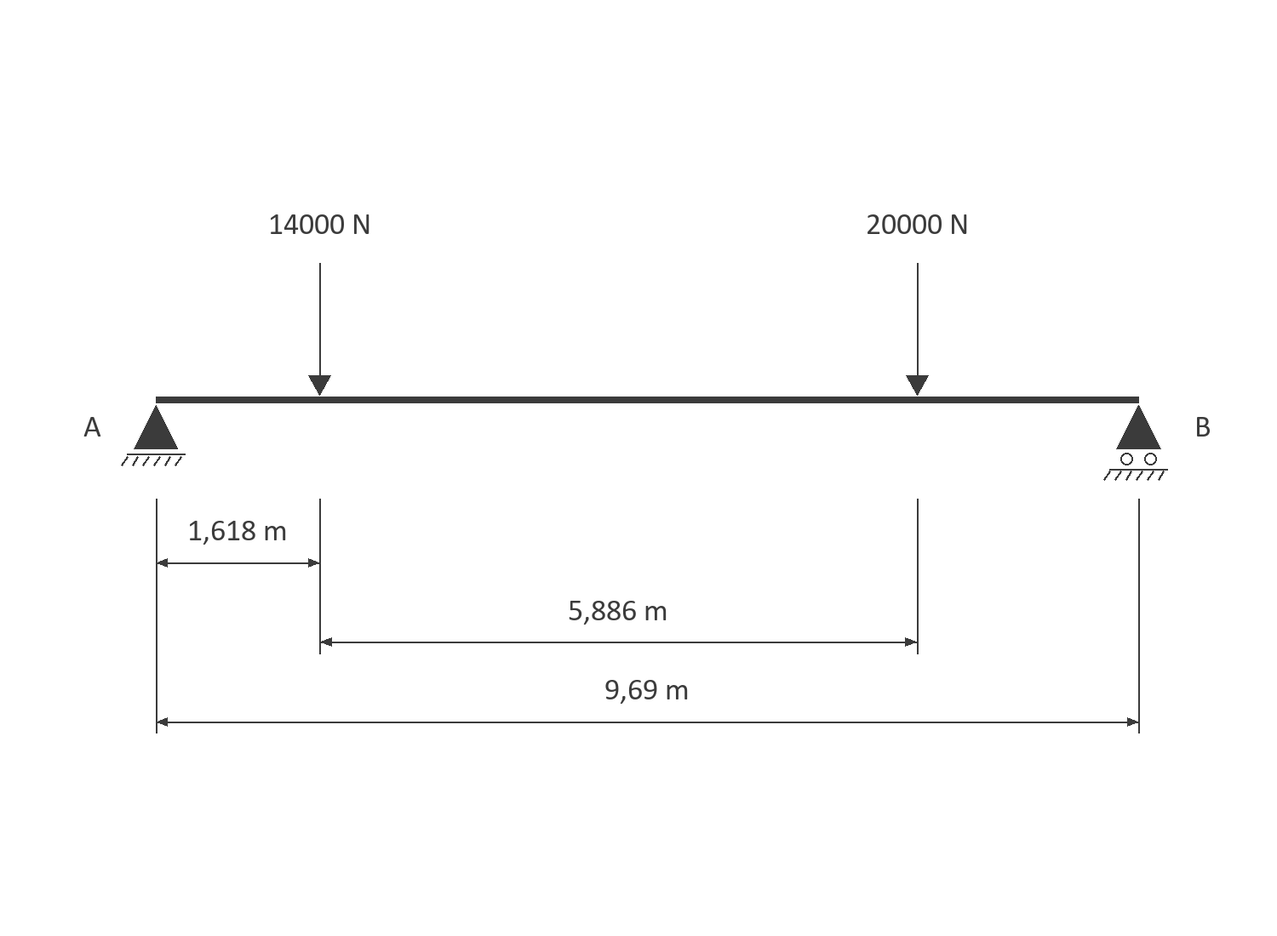pin_support: (121, 405, 186, 466)
point_load: (308, 263, 331, 396), (906, 263, 929, 396)
roller_support: (1103, 405, 1168, 481)
